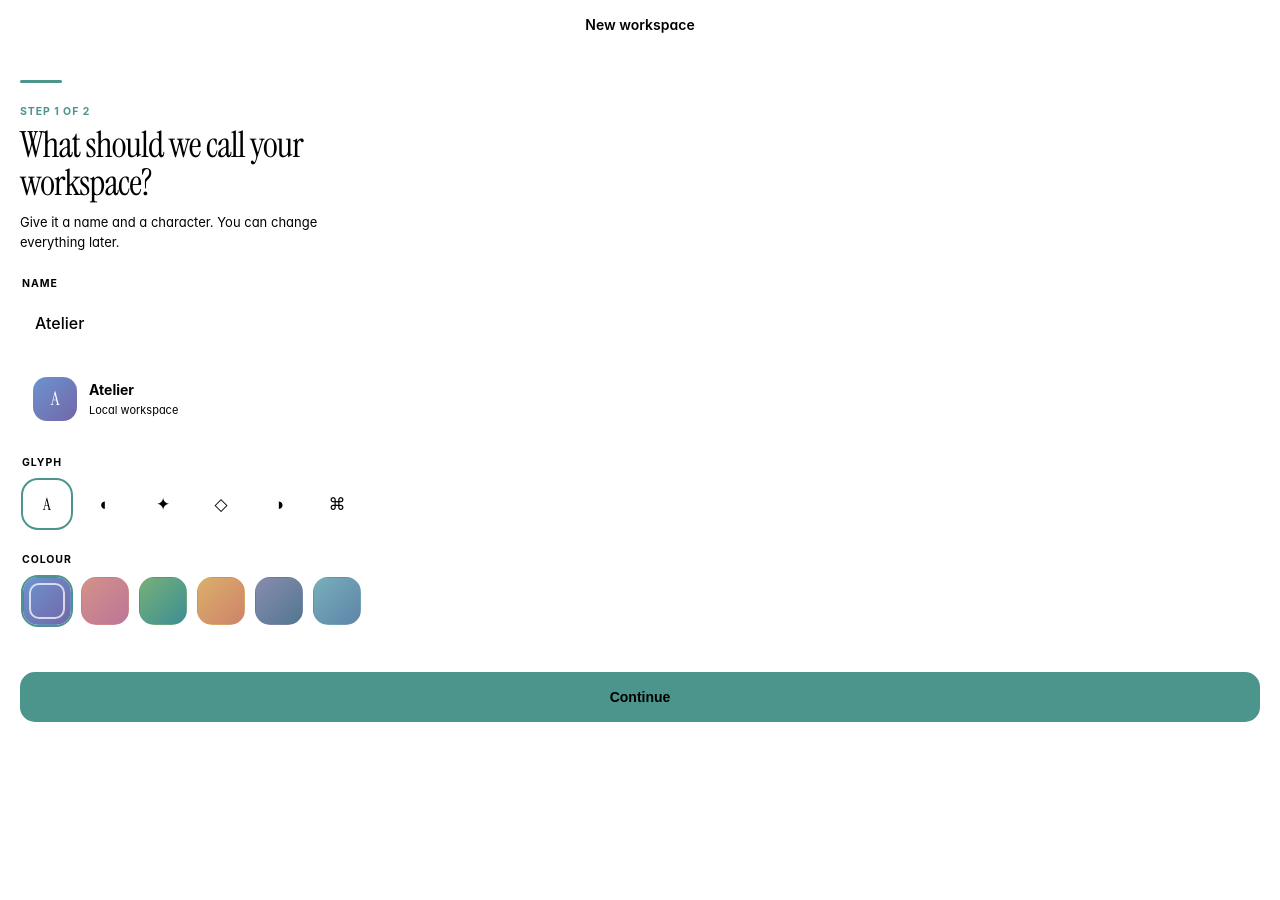
Scenario: MobileCreateWorkspaceFlow › moves through identity and template steps
Expected: the text with class "mobile-create__workspace-glyph" reads "A", [51,386,59,411]
Expected: the element with class "mobile-create__option-group" shows "Glyph", [22,456,62,469]
Click the button with class "mobile-create__primary": (640, 697) [20,672,1260,722]
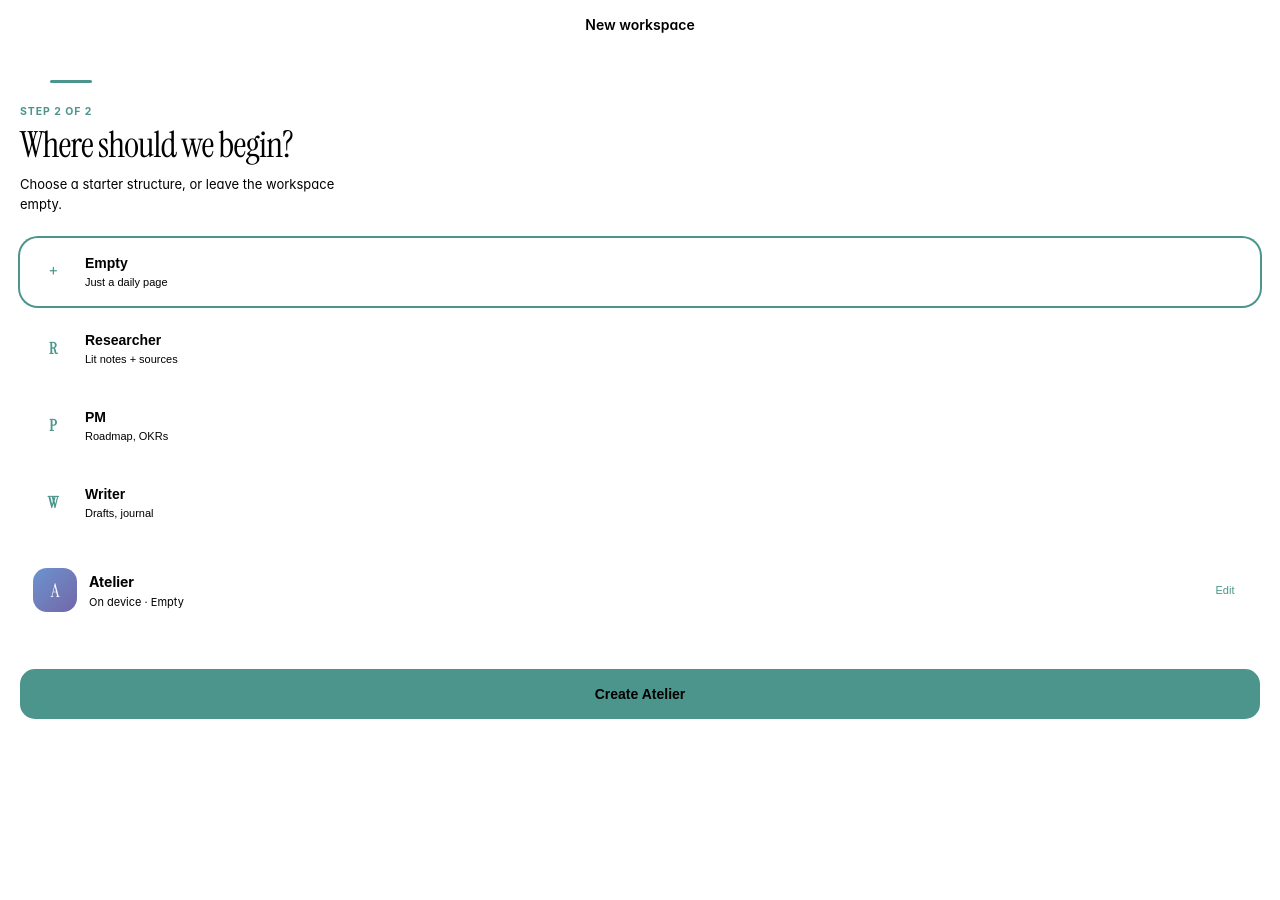
Result: the text "Where should we begin?" is shown at [20,121,293,168]
